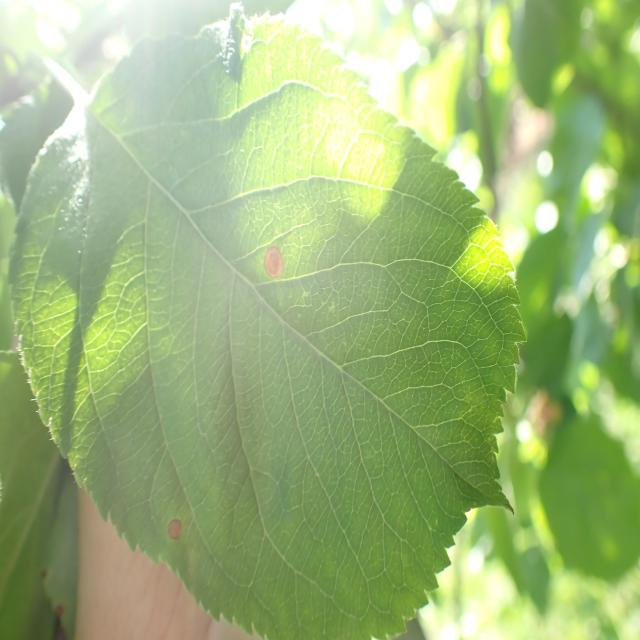Black Rot: (246, 235, 292, 308), (164, 500, 196, 558)
